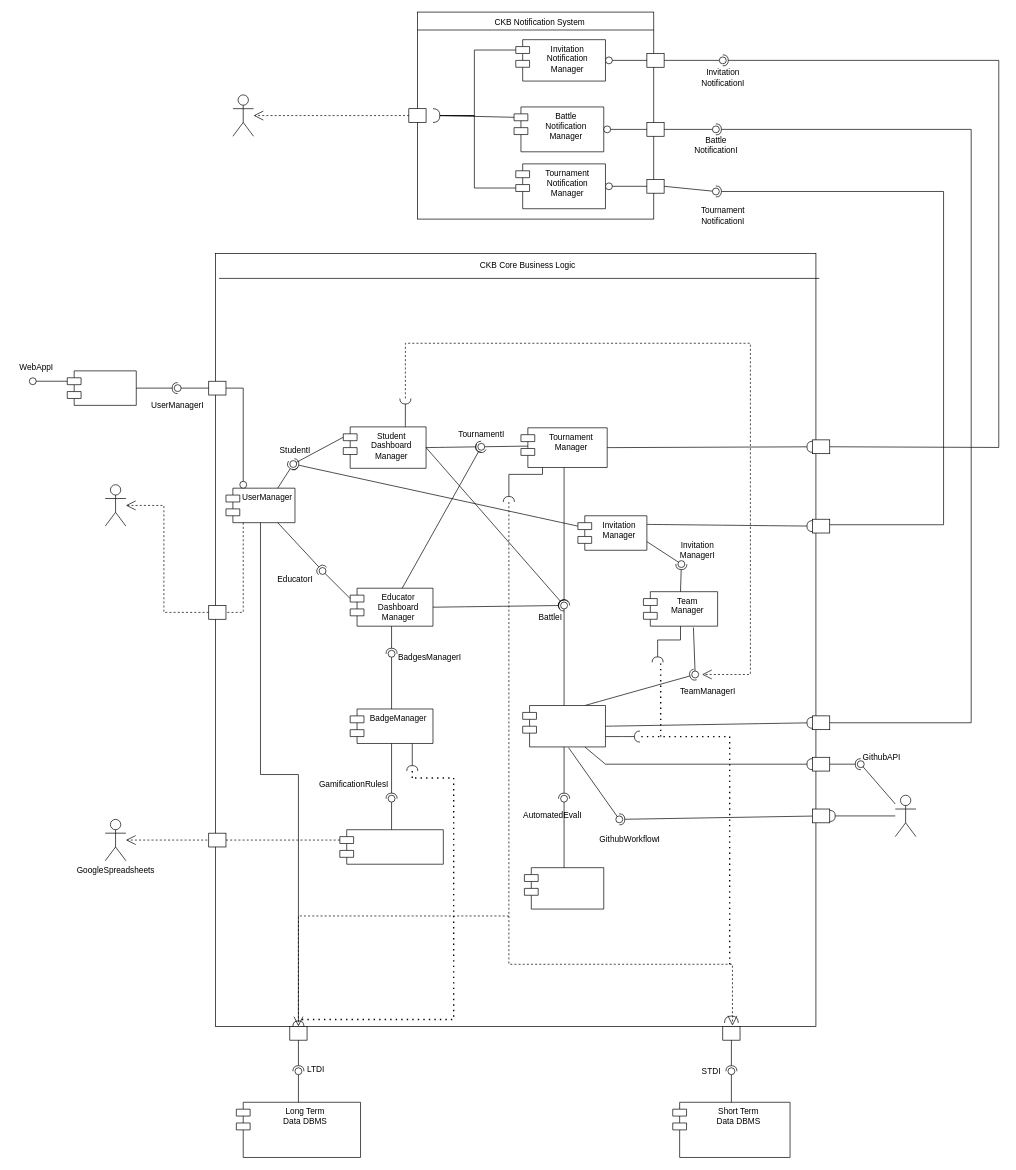
Some shapes in this 1016 by 1170 pixel diagram are drawn without their labels. The shapes that lost their labels are listed below. From the top down, each one's centre as x and y in pixels, then its label:
At (243,115): "MailingService".
At (101,387): "UserWebApp".
At (115,505): "AuthenticationService".
At (563,726): "BattleManager".
At (905,816): "GitHub".
At (391,846): "GamificationRules Manager".
At (564,888): "Automated Evaluation Manager".
